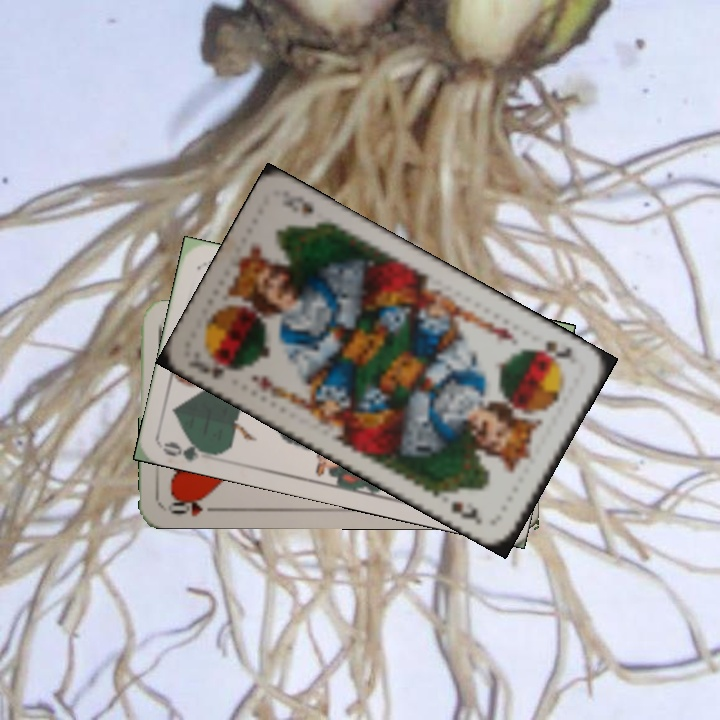GO: (160, 434, 221, 464)
HO: (164, 493, 222, 519)
SK: (529, 335, 580, 367), (200, 358, 242, 381)
